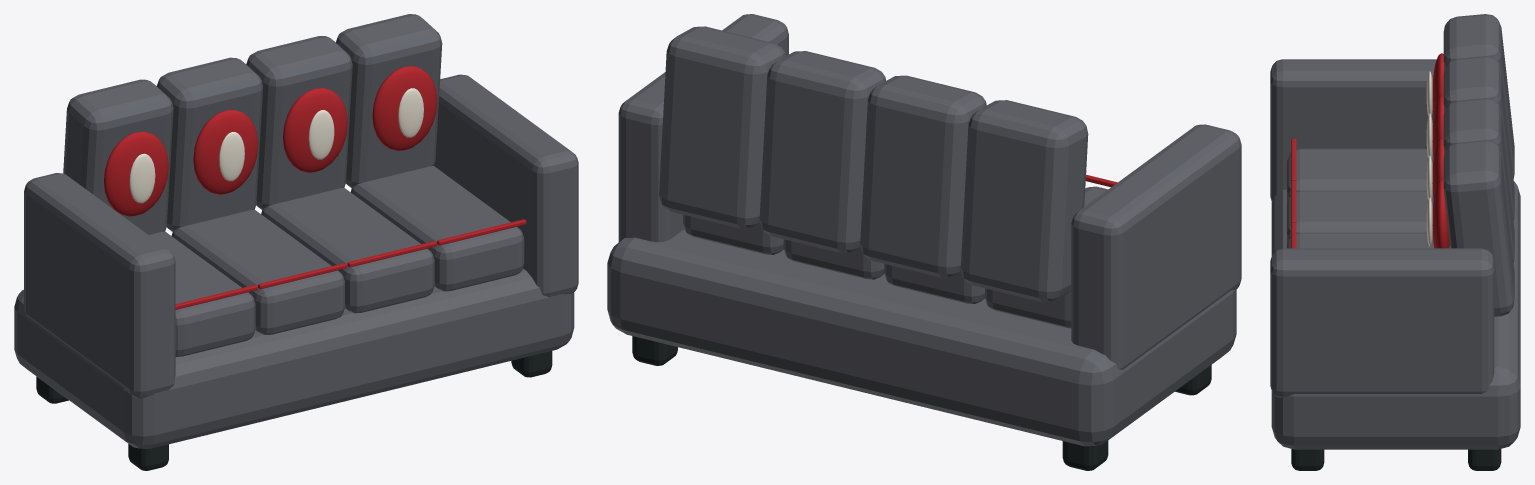
Rendered from hiperreal-hd.glb.
The picture shows the model from 3 angles, left to right: view 1: azimuth 30°, elevation 25°; view 2: azimuth 150°, elevation 25°; view 3: azimuth 270°, elevation 25°; orthographic projection. The views are drawn at different scales.
Parts seen in each view (by area): view 1: Upholstered base, Armrest, Armrest.001, Seat cushion.003, Seat cushion.002, Seat cushion.001, Back cushion.002, Back cushion.001, Back cushion.003, Back cushion, Seat cushion, Decorative cushion.001 (+12 smaller); view 2: Upholstered base, Armrest, Back cushion, Back cushion.001, Back cushion.003, Back cushion.002, Armrest.001, Seat cushion, Seat cushion.002, Seat cushion.001, Seat cushion.003, Sofa foot (+1 smaller); view 3: Armrest.001, Upholstered base, Armrest, Back cushion.003, Seat cushion, Seat cushion.001, Back cushion.001, Back cushion, Back cushion.002, Seat cushion.002, Decorative cushion.003, Sofa foot.002 (+5 smaller).
Boxes of the visible parts, x1,y1,x2,y2 form: Upholstered base: (14,268,574,448); Armrest: (24,173,175,398); Armrest.001: (434,74,578,297); Seat cushion.003: (350,166,524,291); Seat cushion.002: (261,187,434,313); Seat cushion.001: (171,209,344,334); Back cushion.002: (246,36,352,209); Back cushion.001: (157,57,262,231); Back cushion.003: (336,14,442,187); Back cushion: (63,79,173,234); Seat cushion: (149,231,255,356); Decorative cushion.001: (193,109,258,194); Upholstered base: (607,229,1236,446); Armrest: (1071,124,1241,369); Back cushion: (960,100,1088,302); Back cushion.001: (860,75,986,277); Back cushion.003: (659,26,785,228); Back cushion.002: (759,51,886,252); Armrest.001: (618,14,788,242); Seat cushion: (985,186,1107,328); Seat cushion.002: (783,239,884,279); Seat cushion.001: (884,264,985,303); Seat cushion.003: (683,214,783,254); Sofa foot: (1062,440,1108,470); Armrest.001: (1270,248,1494,397); Upholstered base: (1271,181,1520,449); Armrest: (1270,59,1436,201); Back cushion.003: (1443,140,1514,316); Seat cushion: (1287,148,1433,202); Seat cushion.001: (1287,190,1433,244); Back cushion.001: (1443,56,1514,220); Back cushion: (1443,14,1514,178); Back cushion.002: (1443,98,1514,262); Seat cushion.002: (1287,232,1450,248); Decorative cushion.003: (1432,179,1449,248); Sofa foot.002: (1468,449,1501,470).
Bounding box in the file's own units: 1 × 0.6299 × 0.5028.
